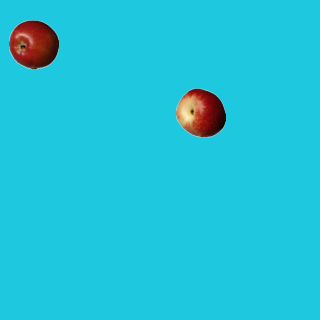Apple Braeburn: (8, 19, 58, 69)
Nectarine: (175, 87, 225, 137)
